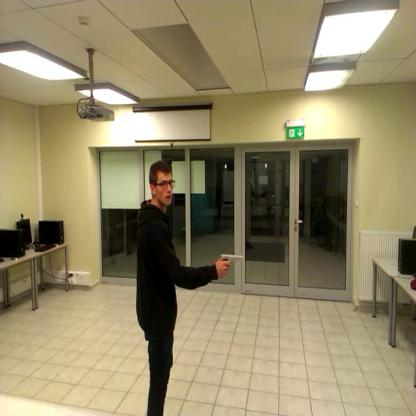Pistol: (208, 241, 244, 274)
